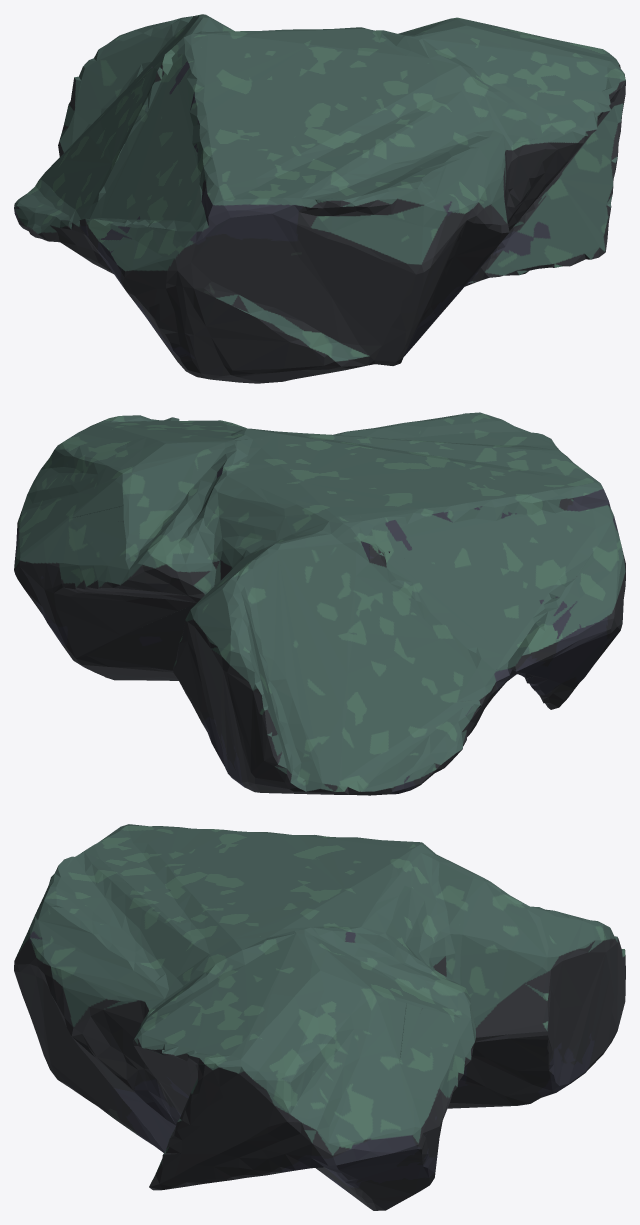
Rendered from ROCK_E.fbx.
The picture shows the model from 3 angles, top to bottom: view 1: azimuth 30°, elevation 25°; view 2: azimuth 150°, elevation 25°; view 3: azimuth 270°, elevation 25°; orthographic projection. The views are drawn at different scales.
Parts seen in each view (by area): view 1: ROCK_E; view 2: ROCK_E; view 3: ROCK_E.
Boxes of the visible parts, box(x1,y1,x2,y2) form: ROCK_E: box(14, 14, 625, 383); ROCK_E: box(14, 412, 625, 795); ROCK_E: box(14, 824, 625, 1210).
Size of the model in its own units: 677 by 321 by 641.
